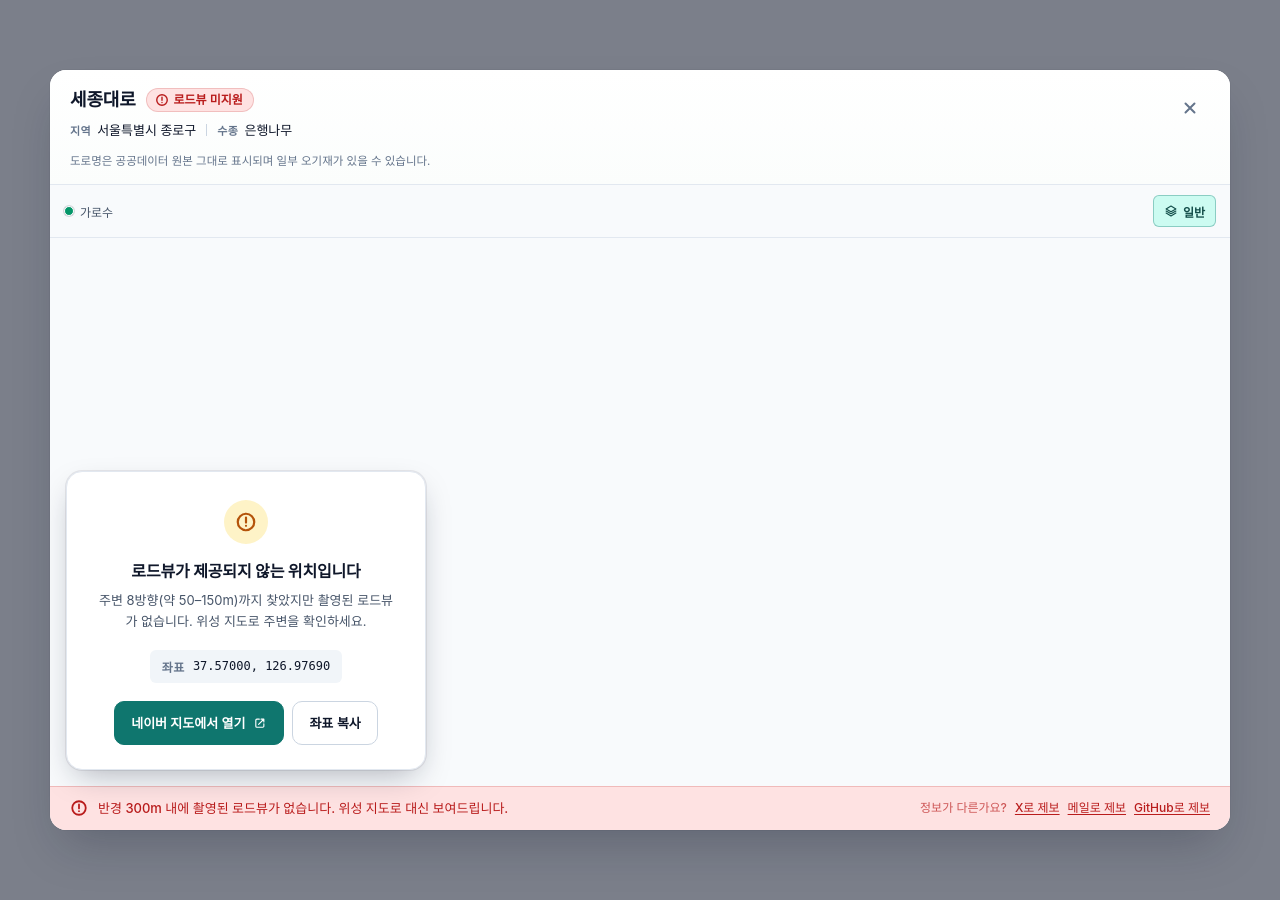
Test: 미니맵 인스턴스 수명 › 폴백에서 위성이 기본이지만 사용자가 일반으로 바꾸면 유지된다
Click the button "일반" at (1184, 211), box [1153,195,1216,227]
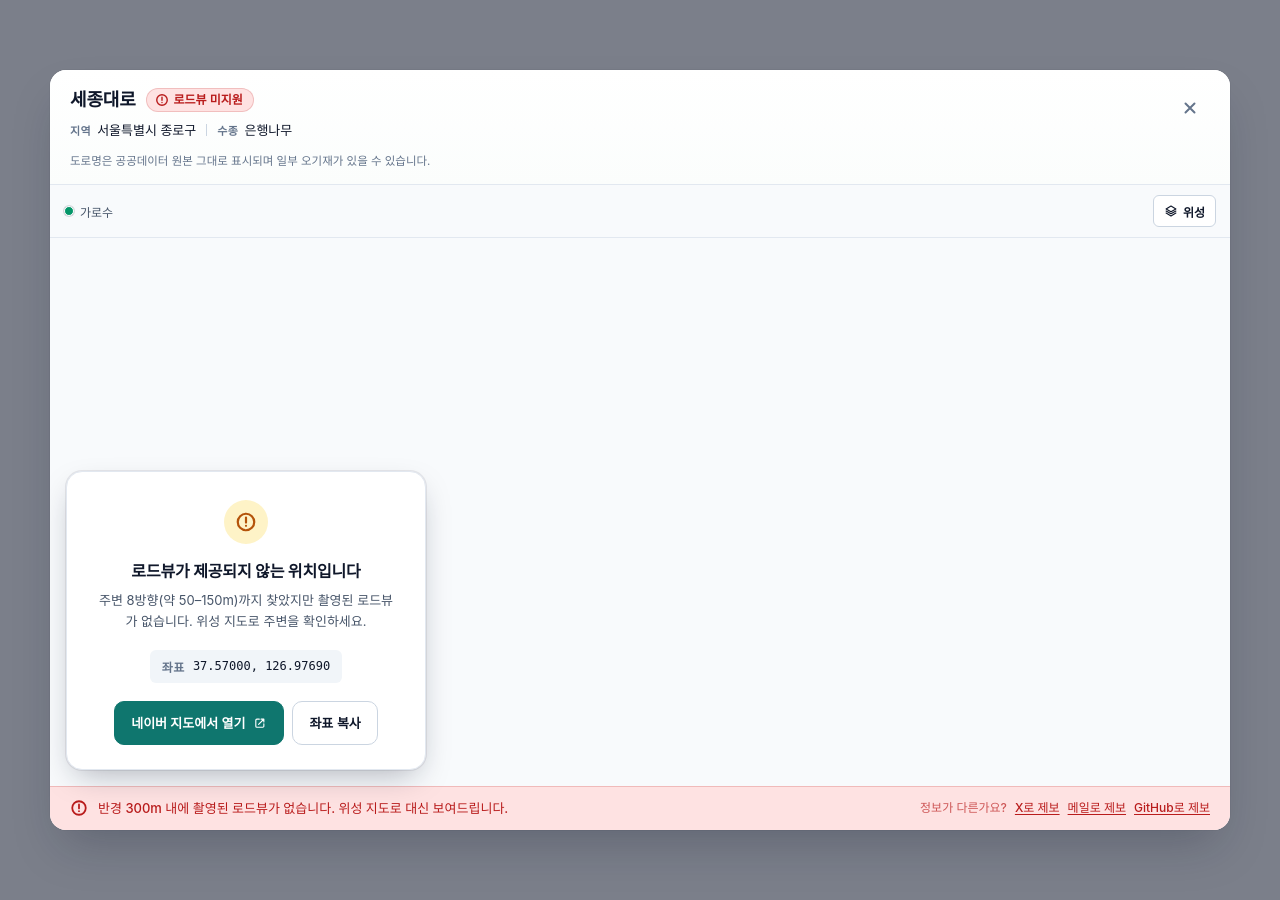
Expected: the button "위성" is shown, [1153,195,1216,227]
